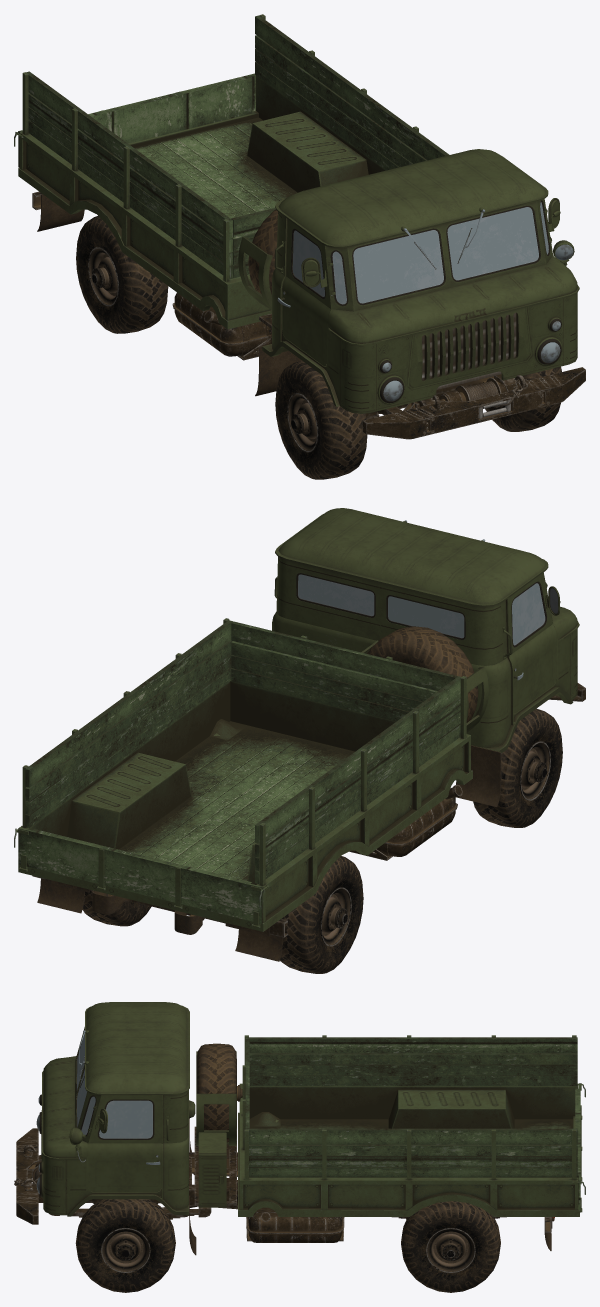
3 views of the same model, one above another, from view 1: azimuth 30°, elevation 25°; view 2: azimuth 150°, elevation 25°; view 3: azimuth 270°, elevation 25° (orthographic). The views are drawn at different scales.
Parts seen in each view (by area): view 1: Body, Frame, Body.001, RFW, RRW, LFW; view 2: Body, Frame, Body.001, RRW, RFW, RLW; view 3: Body, Frame, LFW, RLW, Body.001.
Boxes of the visible parts, x1,y1,x2,y2 form: Body: [14, 14, 579, 413]; Frame: [32, 191, 585, 452]; Body.001: [292, 202, 548, 304]; RFW: [275, 360, 367, 479]; RRW: [76, 216, 168, 333]; LFW: [485, 366, 561, 431]; Body: [14, 508, 579, 931]; Frame: [32, 626, 585, 961]; Body.001: [298, 574, 545, 645]; RRW: [280, 856, 363, 973]; RFW: [473, 708, 562, 827]; RLW: [82, 890, 151, 926]; Body: [36, 1002, 585, 1216]; Frame: [14, 1043, 554, 1272]; LFW: [75, 1199, 175, 1292]; RLW: [401, 1201, 500, 1292]; Body.001: [77, 1034, 152, 1138].
Size of the model in its own units: 2.5 by 2.39 by 5.86.
Materials: 5 (5 with a texture image).
